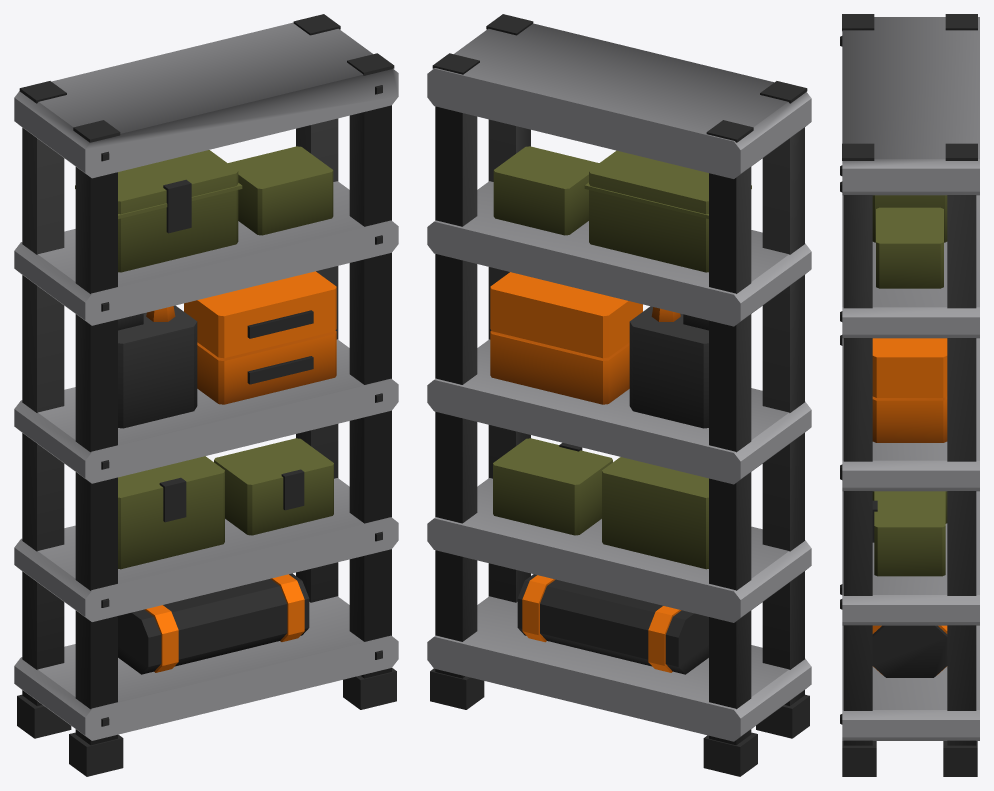
The model's file is supply-shelf.glb.
3 renders of one model, left to right at view 1: azimuth 30°, elevation 25°; view 2: azimuth 150°, elevation 25°; view 3: azimuth 270°, elevation 25°, orthographic. The views are drawn at different scales.
Parts seen in each view (by area): view 1: shelf; view 2: shelf; view 3: shelf.
Boxes of the visible parts, x1,y1,x2,y2 form: shelf: (14, 14, 398, 776); shelf: (427, 14, 811, 776); shelf: (840, 14, 979, 776).
Size of the model in its own units: 1.03 by 2 by 0.41.
1 material, 1 textured.
